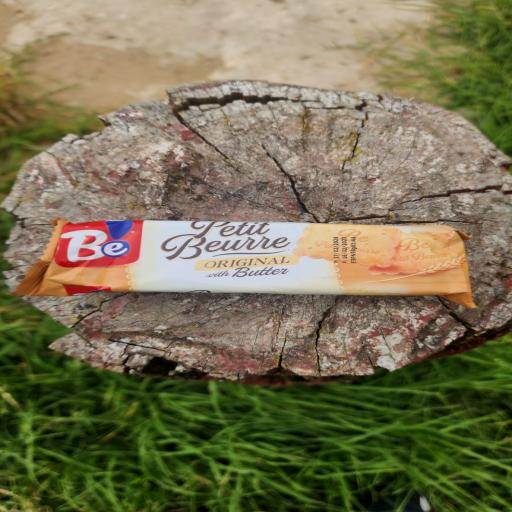petit_beurre: (16, 192, 510, 350)
